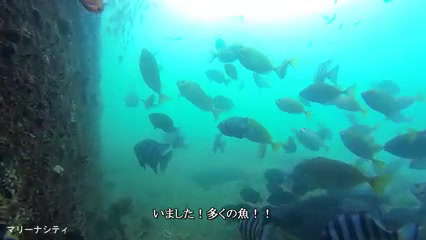smallfish: (274, 90, 319, 125)
